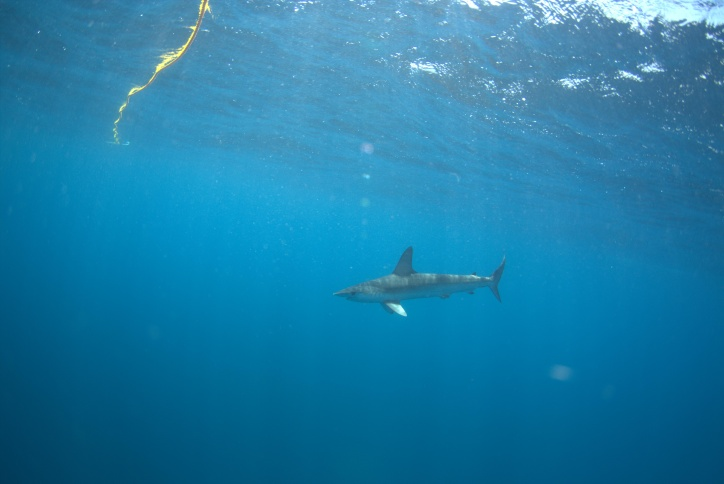Hammer: (333, 243, 524, 330)
